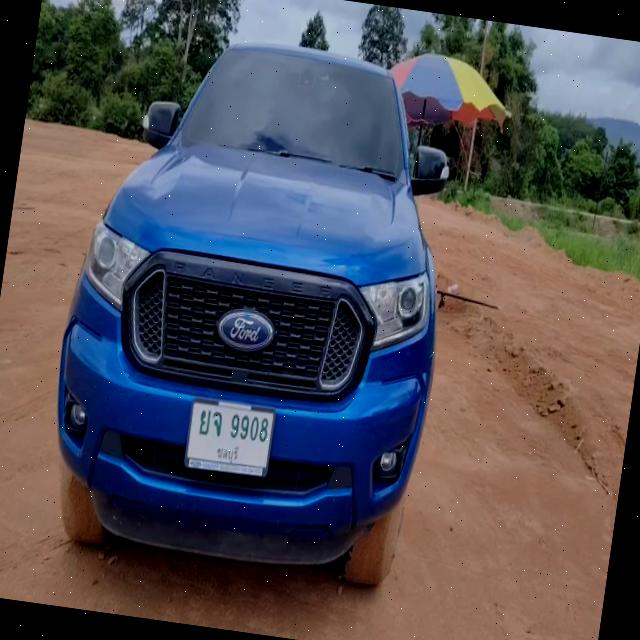Digit: (228, 411, 272, 445)
Licenseplate: (184, 399, 276, 477)
Provincename: (215, 442, 241, 464)
Thaichar: (198, 408, 225, 441)
